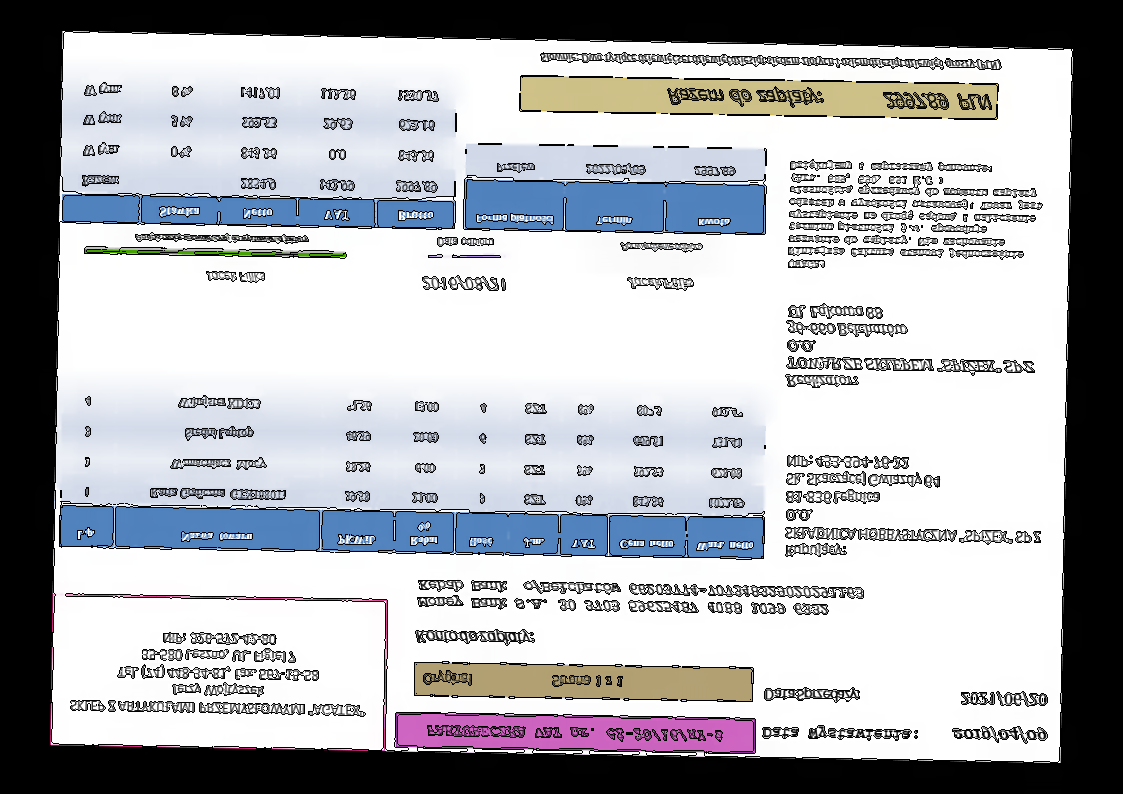Table: (58, 381, 769, 562), (60, 70, 459, 231), (462, 142, 768, 238)
TextBox: (781, 449, 1048, 566), (785, 158, 1046, 276), (66, 627, 369, 721), (783, 301, 1039, 395), (414, 576, 866, 619), (537, 47, 1004, 74), (663, 84, 994, 115), (424, 722, 726, 745), (420, 667, 626, 692), (133, 228, 310, 249), (759, 724, 920, 745), (412, 625, 537, 650), (760, 683, 862, 706), (417, 271, 508, 295), (949, 723, 1050, 744), (959, 687, 1047, 710), (623, 274, 696, 295), (617, 239, 706, 255), (203, 267, 269, 287), (435, 235, 495, 250)
